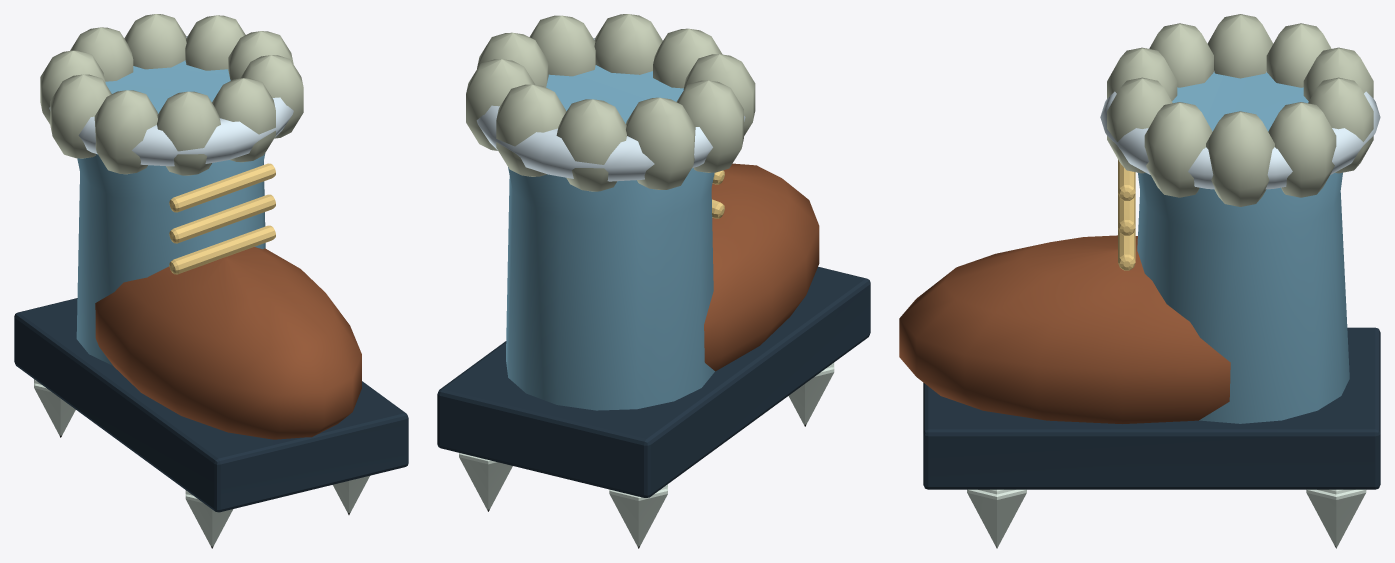
Rendered from item_067.glb.
3 renders of one model, left to right at view 1: azimuth 30°, elevation 25°; view 2: azimuth 150°, elevation 25°; view 3: azimuth 270°, elevation 25°, orthographic. The views are drawn at different scales.
Parts seen in each view (by area): view 1: Item_067_icicle_crampons; view 2: Item_067_icicle_crampons; view 3: Item_067_icicle_crampons.
Boxes of the visible parts, left/top/right/bottom form: Item_067_icicle_crampons: left=14, top=14, right=408, bottom=548; Item_067_icicle_crampons: left=437, top=14, right=870, bottom=548; Item_067_icicle_crampons: left=899, top=14, right=1380, bottom=548.
Bounding box in the file's own units: 0.2093 × 0.335 × 0.3262.
